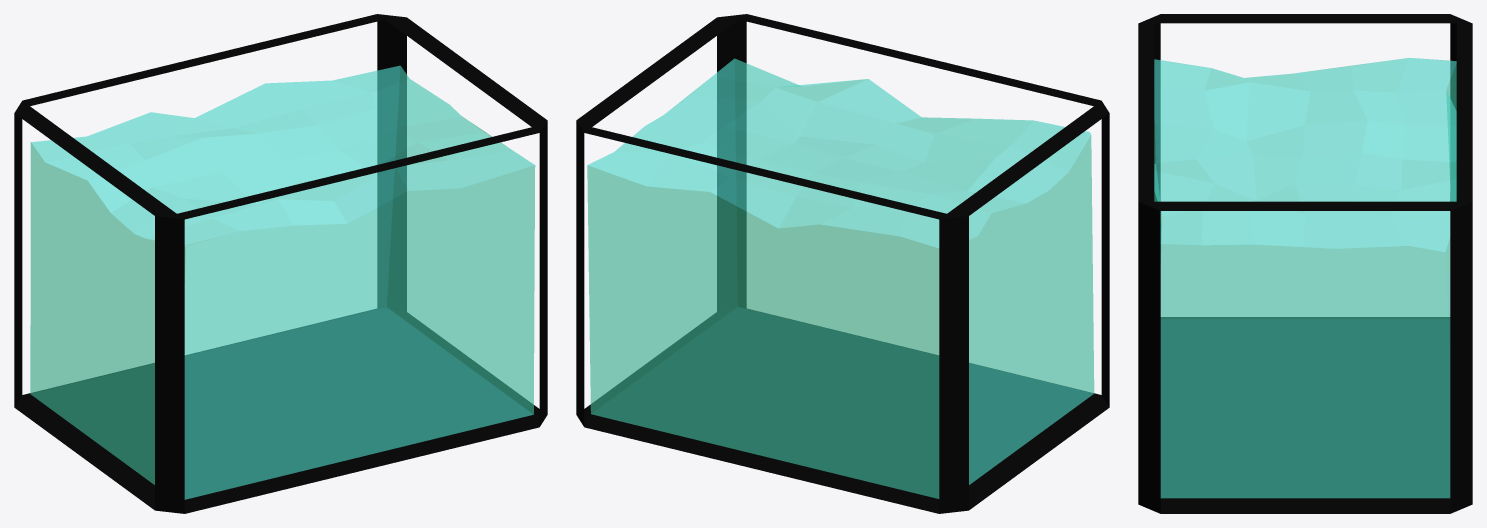
The model's file is fishtank.glb.
3 renders of one model, left to right at view 1: azimuth 30°, elevation 25°; view 2: azimuth 150°, elevation 25°; view 3: azimuth 270°, elevation 25°, orthographic. The views are drawn at different scales.
Parts seen in each view (by area): view 1: WATER, TANK; view 2: WATER, TANK; view 3: WATER, TANK.
Boxes of the visible parts, x1,y1,x2,y2 form: WATER: [30, 65, 535, 499]; TANK: [14, 14, 547, 513]; WATER: [587, 58, 1094, 498]; TANK: [576, 14, 1109, 513]; WATER: [1154, 57, 1456, 498]; TANK: [1138, 14, 1472, 513].
Size of the model in its own units: 2.79 by 2 by 2.
